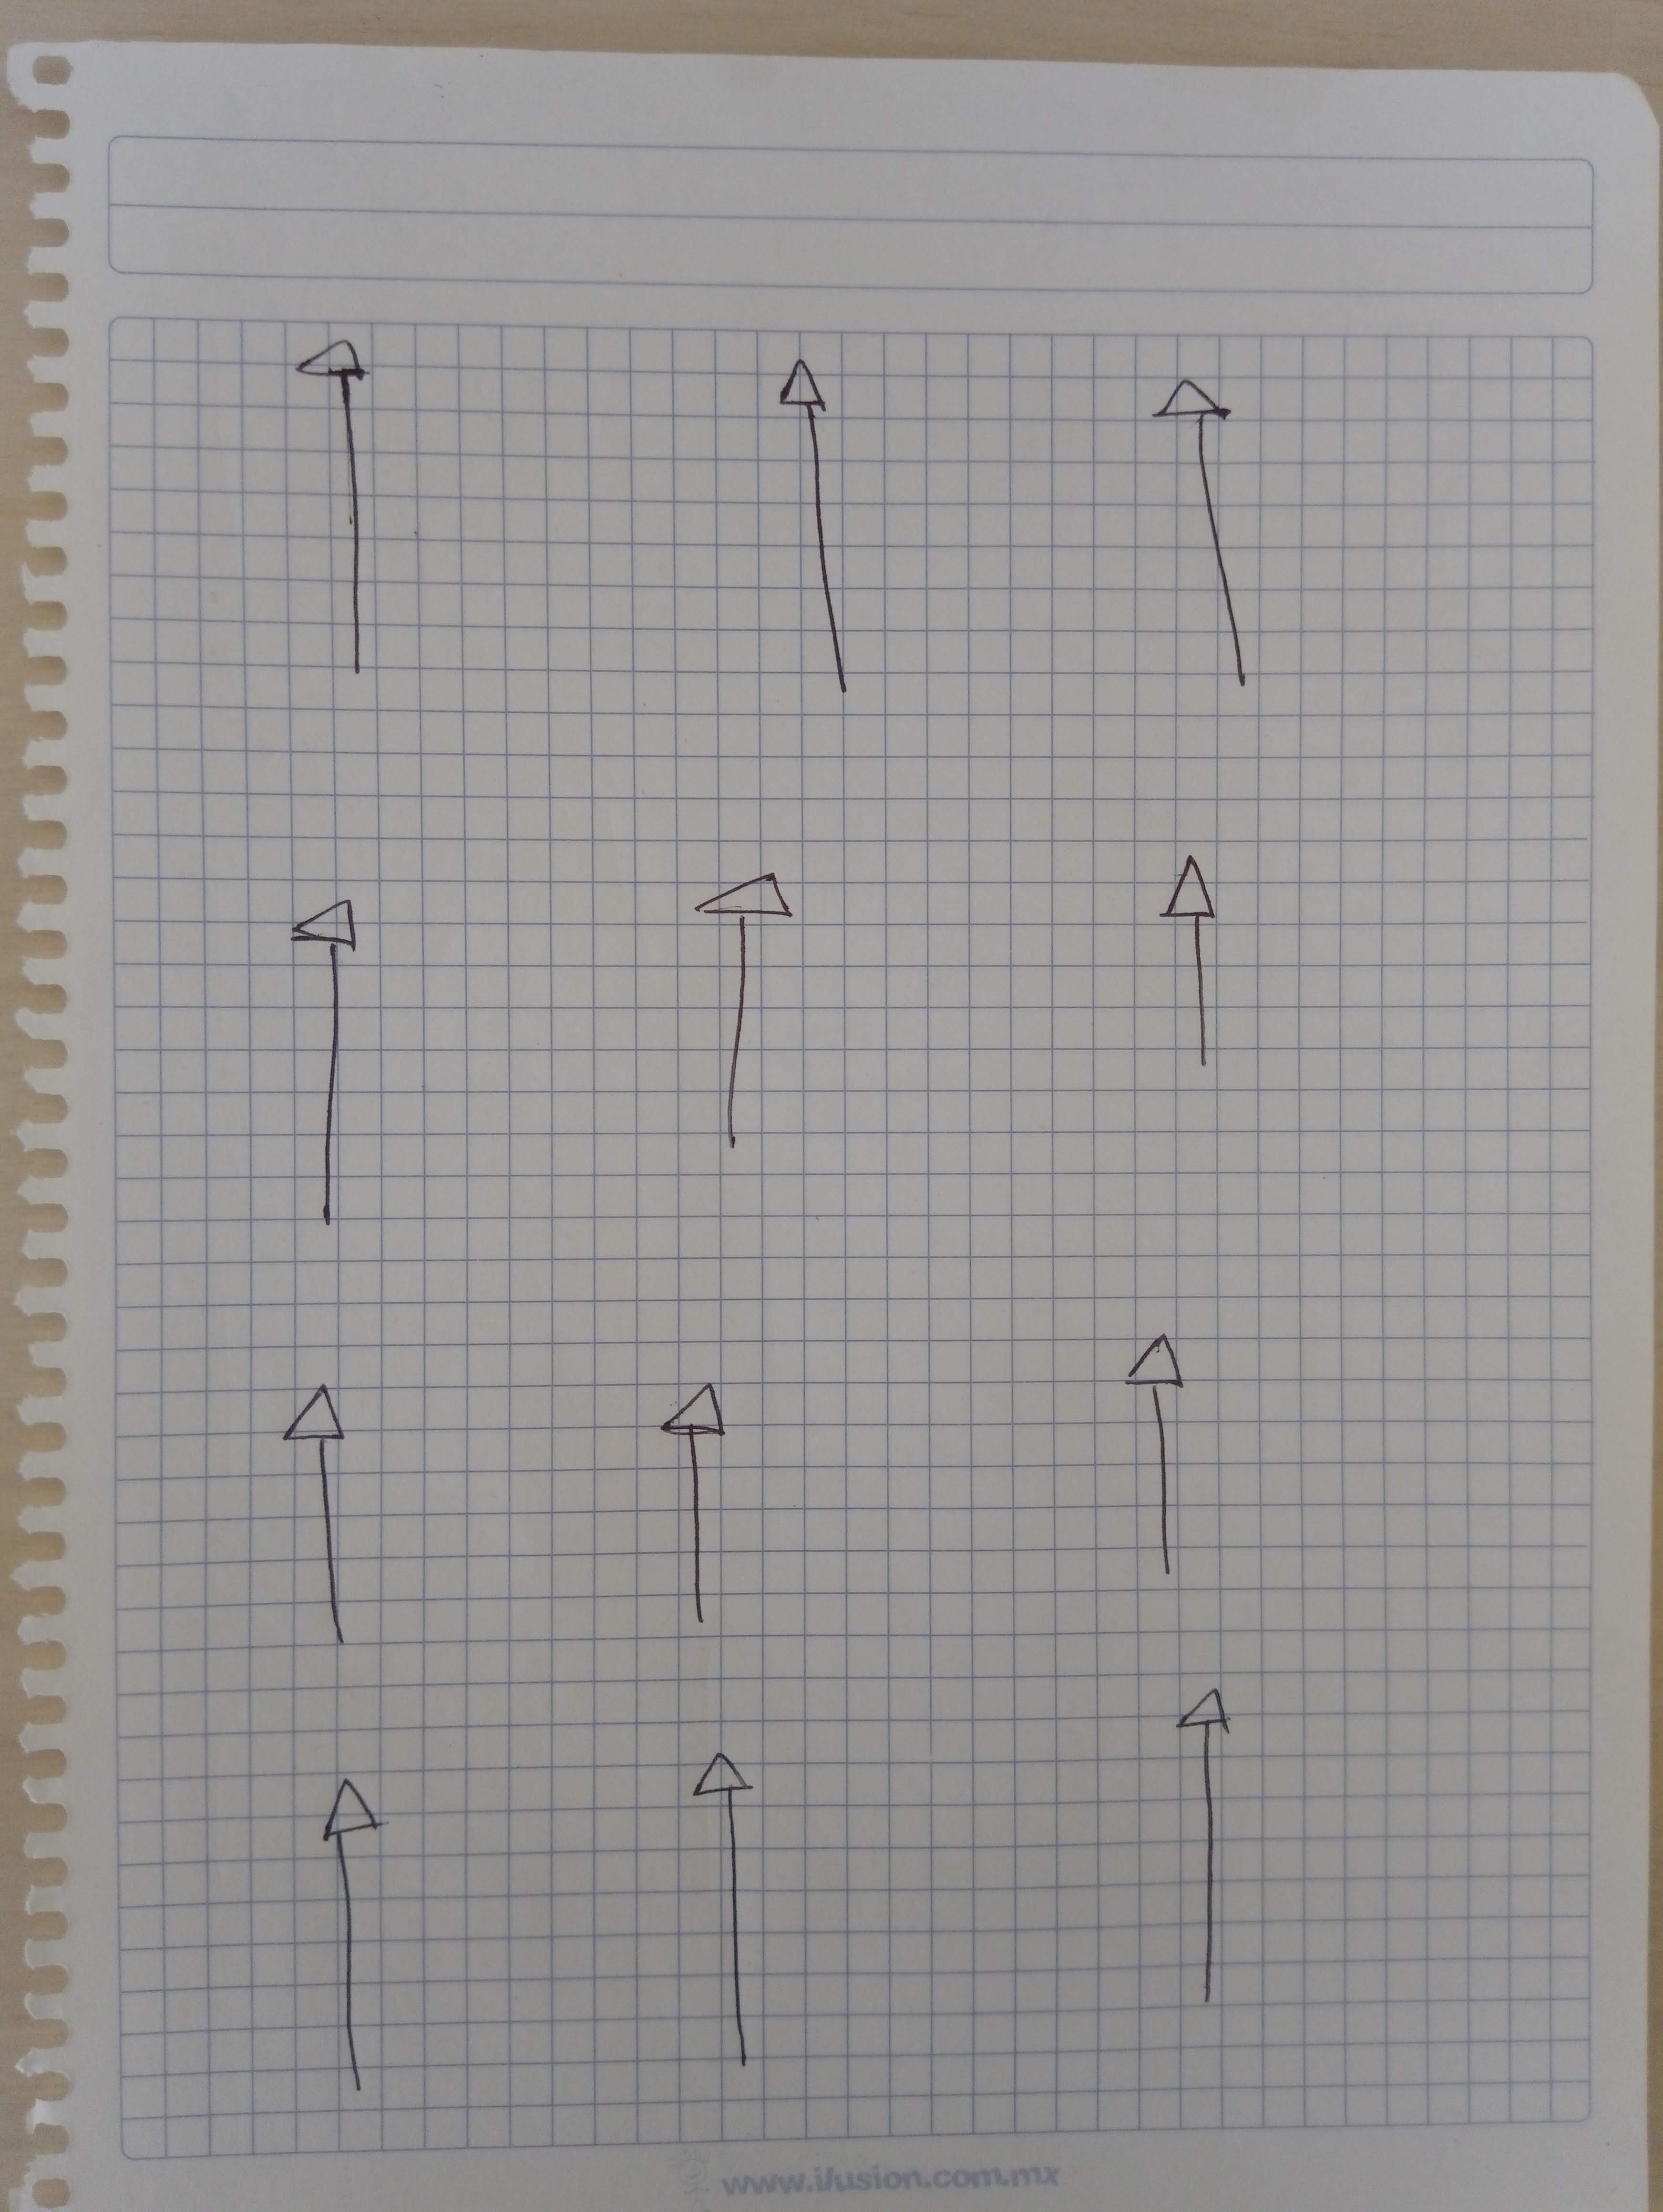arrow_line_up: (271, 321, 404, 697), (674, 1748, 802, 2081), (264, 1376, 400, 1678), (283, 896, 395, 1252), (314, 1774, 426, 2116), (1170, 1674, 1272, 2027), (763, 353, 861, 716), (1163, 368, 1265, 702), (687, 861, 798, 1163), (1097, 1313, 1214, 1592), (639, 1379, 756, 1652), (1148, 861, 1244, 1068)
